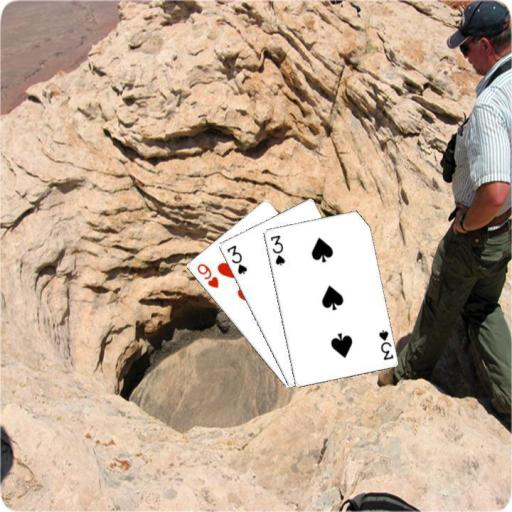3S: (223, 242, 248, 276), (267, 232, 286, 267), (376, 327, 395, 362)
9H: (193, 261, 220, 290)
